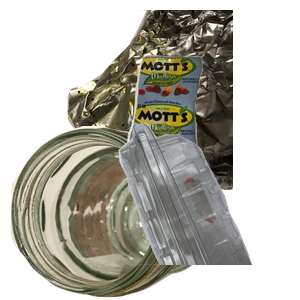glass: (10, 126, 220, 300)
metal: (60, 10, 300, 190)
plastic: (71, 120, 300, 300)
trash: (125, 53, 300, 201)
